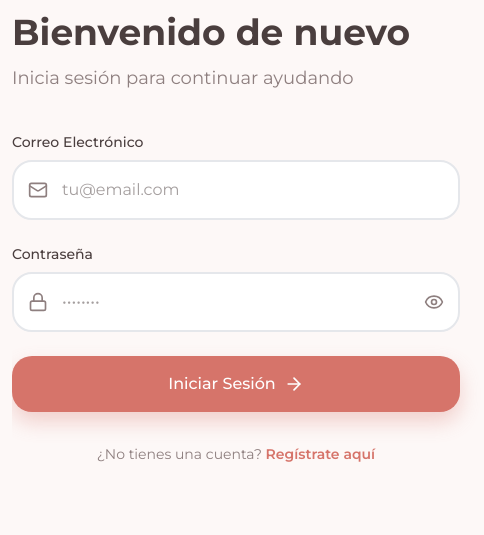
Test case: LoginForm › muestra error de email inválido
Type "email-invalido" into the field labelled "Correo Electrónico".
click(236, 190); type("email-invalido")  # box [12,160,460,220]
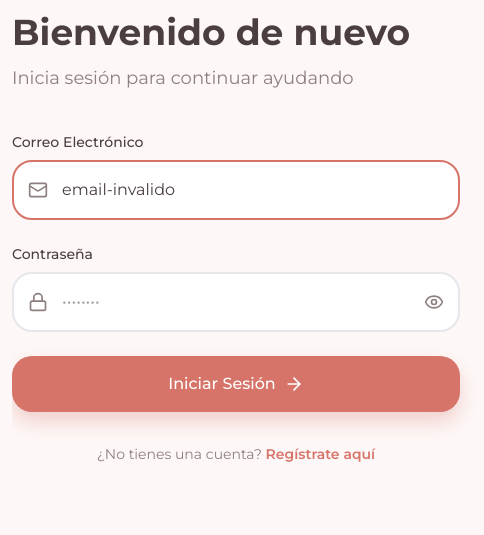
Type "12345" into the password field labelled "Contraseña".
click(236, 302); type("12345")  # box [12,272,460,332]
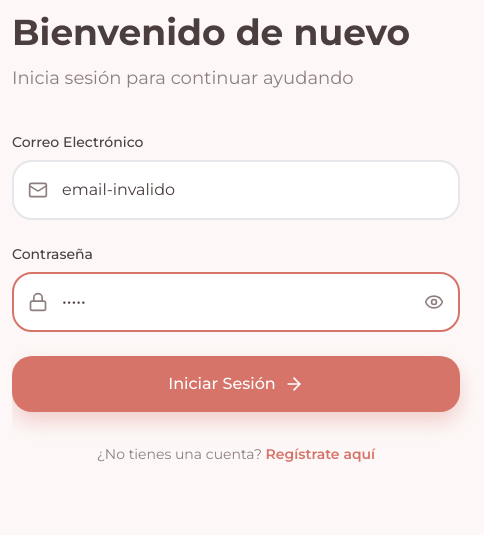
Submit the form "Correo Electrónico Contraseña Iniciar Sesión", box [12,132,460,412]
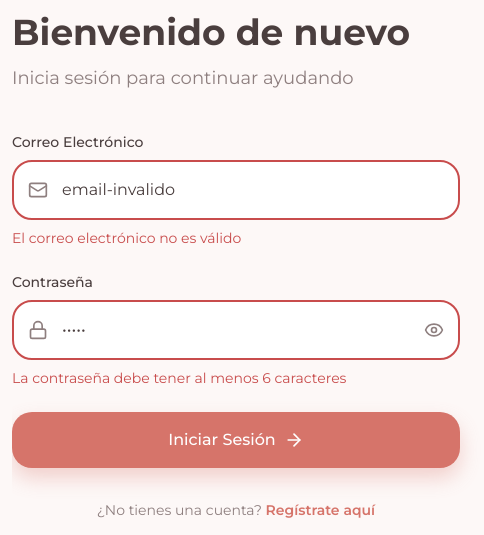
Expected: the text "El correo electrónico no es válido" is shown, [12,229,241,247]
Expected: the text "La contraseña debe tener al menos 6 caracteres" is shown, [12,369,346,387]
